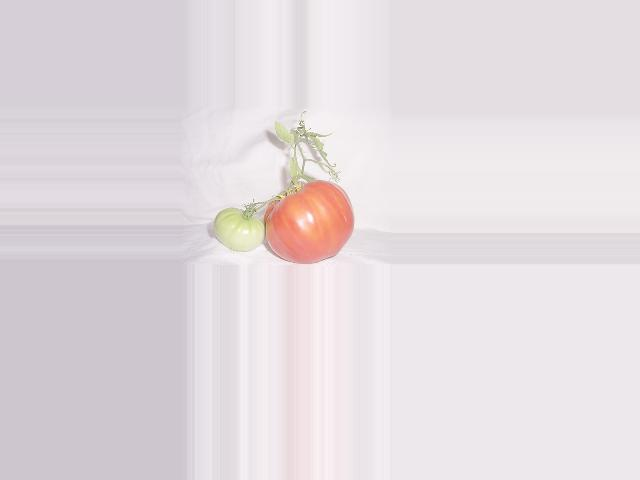tomato: (263, 180, 354, 263)
